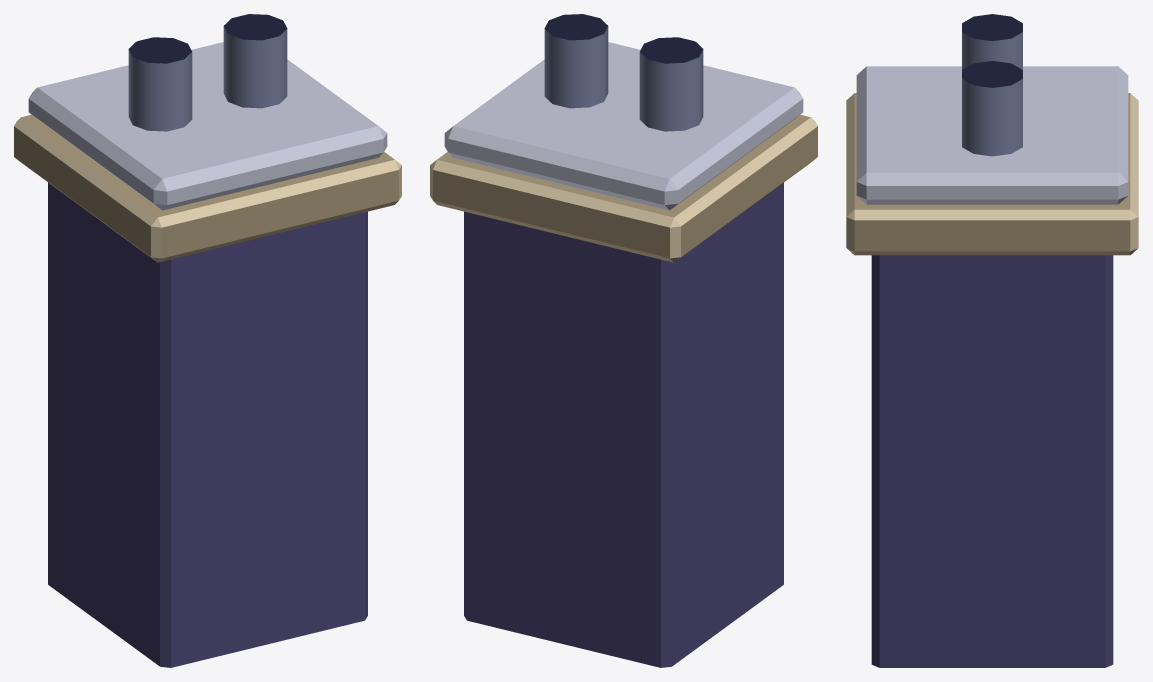
The model's file is Roof_Chimney.fbx.
3 renders of one model, left to right at view 1: azimuth 30°, elevation 25°; view 2: azimuth 150°, elevation 25°; view 3: azimuth 270°, elevation 25°, orthographic.
Parts seen in each view (by area): view 1: Roof_Chimney; view 2: Roof_Chimney; view 3: Roof_Chimney.
Part boxes in pixels (x1=…): Roof_Chimney: x1=14, y1=14, x2=401, y2=667; Roof_Chimney: x1=430, y1=14, x2=817, y2=667; Roof_Chimney: x1=846, y1=14, x2=1138, y2=667.
Bounding box in the file's own units: 2.9 × 6.2 × 2.9.
Materials: 1 (1 with a texture image).
